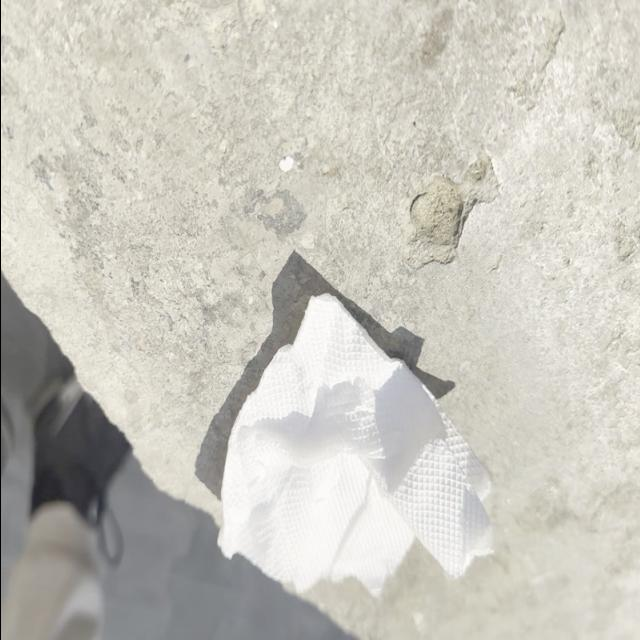tissue: (218, 294, 494, 607)
